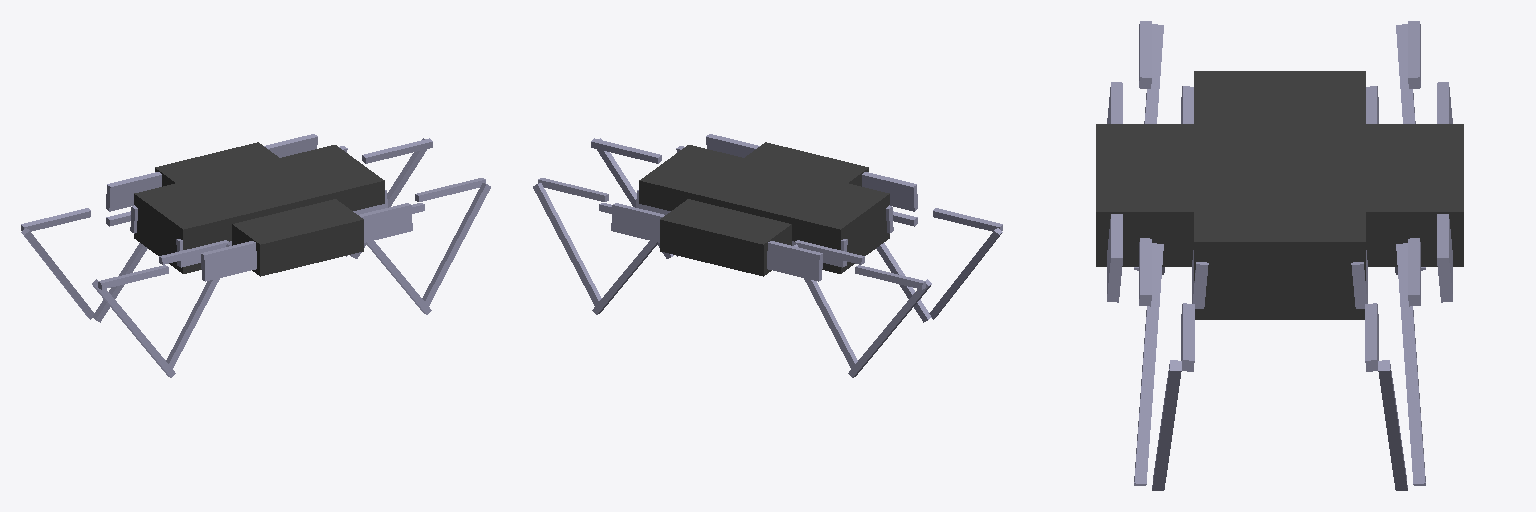
--- Facts derived from the render (not from the file) ---
3 views of the same robot in one strip: view 1: azimuth 30°, elevation 25°; view 2: azimuth 150°, elevation 25°; view 3: azimuth 270°, elevation 25° (orthographic).
Model quadruped with 27 links and 26 joints (26 fixed), rooted at base_chassis_link, posed all joints at 0.
Visible links, largest first — view 1: base_chassis_link, chassis_right, chassis_left, lower_leg_front_rightL_link, lower_leg_back_rightR_link, lower_leg_back_rightL_link, lower_leg_back_leftR_link, lower_leg_front_rightR_link, upper_leg_front_leftL_link, upper_leg_back_rightR_link, upper_leg_back_leftR_link, lower_leg_front_leftL_link (+3 smaller); view 2: base_chassis_link, chassis_left, chassis_right, lower_leg_front_leftL_link, lower_leg_back_leftR_link, lower_leg_back_leftL_link, lower_leg_back_rightR_link, lower_leg_front_leftR_link, upper_leg_front_rightL_link, upper_leg_back_rightR_link, upper_leg_back_leftR_link, lower_leg_front_rightL_link (+3 smaller); view 3: base_chassis_link, lower_leg_front_rightR_link, lower_leg_front_leftR_link, chassis_right, chassis_left, lower_leg_front_rightL_link, lower_leg_front_leftL_link, lower_leg_back_rightR_link, lower_leg_back_leftR_link, upper_leg_front_rightL_link, upper_leg_front_leftL_link, upper_leg_back_rightR_link (+3 smaller).
Link boxes in pixels (x1,y1,x2,y2): base_chassis_link: (134,142,384,276); chassis_right: (176,190,412,281); chassis_left: (106,134,317,233); lower_leg_front_rightL_link: (422,182,490,305); lower_leg_back_rightR_link: (92,279,175,377); lower_leg_back_rightL_link: (166,244,229,368); lower_leg_back_leftR_link: (21,228,94,319); lower_leg_front_rightR_link: (366,241,431,314); upper_leg_front_leftL_link: (362,138,432,163); upper_leg_back_rightR_link: (98,265,168,289); upper_leg_back_leftR_link: (21,208,90,231); lower_leg_front_leftL_link: (350,138,426,258); base_chassis_link: (639,142,889,276); chassis_left: (611,190,847,281); chassis_right: (706,134,917,233); lower_leg_front_leftL_link: (533,182,601,305); lower_leg_back_leftR_link: (848,279,931,377); lower_leg_back_leftL_link: (794,244,857,368); lower_leg_back_rightR_link: (929,228,1002,319); lower_leg_front_leftR_link: (592,241,657,314); upper_leg_front_rightL_link: (591,138,661,163); upper_leg_back_rightR_link: (933,208,1002,231); upper_leg_back_leftR_link: (855,265,925,289); lower_leg_front_rightL_link: (597,138,673,258); base_chassis_link: (1096,71,1463,319); lower_leg_front_rightR_link: (1134,243,1163,485); lower_leg_front_leftR_link: (1396,243,1425,485); chassis_right: (1107,82,1208,308); chassis_left: (1351,82,1452,308); lower_leg_front_rightL_link: (1152,360,1181,490); lower_leg_front_leftL_link: (1378,360,1407,490); lower_leg_back_rightR_link: (1134,24,1163,270); lower_leg_back_leftR_link: (1396,24,1425,270); upper_leg_front_rightL_link: (1181,303,1194,371); upper_leg_front_leftL_link: (1365,303,1378,371); upper_leg_back_rightR_link: (1139,21,1151,88).
Bounding box of the posed robot: 0.6585 × 0.3 × 0.2026 m (x, y, z).
0 mesh visuals loaded from 1 distinct referenced files (none loaded); not drawn: 8 (reference not matched to a file when rendering).

URDF robot description (quadruped):
<?xml version="1.0" ?>
<!-- ======================================================================= -->
<!--LICENSE:                                                                 -->
<!--Copyright (c) 2017, Erwin Coumans                                        -->
<!--Google Inc.                                                              -->
<!--All rights reserved.                                                     -->
<!--                                                                         -->
<!--Redistribution and use in source and binary forms, with or without       -->
<!--modification, are permitted provided that the following conditions are   -->
<!--met:                                                                     -->
<!--                                                                         -->
<!--1. Redistributions or derived work must retain this copyright notice,    -->
<!--   this list of conditions and the following disclaimer.                 -->
<!--                                                                         -->
<!--2. Redistributions in binary form must reproduce the above copyright     -->
<!--   notice, this list of conditions and the following disclaimer in the   -->
<!--   documentation and/or other materials provided with the distribution.  -->
<!--                                                                         -->
<!--THIS SOFTWARE IS PROVIDED BY THE COPYRIGHT HOLDERS AND CONTRIBUTORS "AS  -->
<!--IS" AND ANY EXPRESS OR IMPLIED WARRANTIES, INCLUDING, BUT NOT LIMITED TO,-->
<!--THE IMPLIED WARRANTIES OF MERCHANTABILITY AND FITNESS FOR A PARTICULAR   -->
<!--PURPOSE ARE DISCLAIMED. IN NO EVENT SHALL THE COPYRIGHT HOLDER OR        -->
<!--CONTRIBUTORS BE LIABLE FOR ANY DIRECT, INDIRECT, INCIDENTAL, SPECIAL,    -->
<!--EXEMPLARY, OR CONSEQUENTIAL DAMAGES (INCLUDING, BUT NOT LIMITED TO,      -->
<!--PROCUREMENT OF SUBSTITUTE GOODS OR SERVICES; LOSS OF USE, DATA, OR       -->
<!--PROFITS; OR BUSINESS INTERRUPTION) HOWEVER CAUSED AND ON ANY THEORY OF   -->
<!--LIABILITY, WHETHER IN CONTRACT, STRICT LIABILITY, OR TORT (INCLUDING     -->
<!--NEGLIGENCE OR OTHERWISE) ARISING IN ANY WAY OUT OF THE USE OF THIS       -->
<!--SOFTWARE, EVEN IF ADVISED OF THE POSSIBILITY OF SUCH DAMAGE.             -->

<robot name="quadruped">
  <link name="base_chassis_link">
    <visual>
      <geometry>
        <box size=".33 0.14 .07"/>
      </geometry>
      <material name="black">
        <color rgba="0.3 0.3 0.3 1"/>
      </material>
    </visual>
    <visual>
			<origin rpy="0 0 0" xyz="0 0.10 0"/>
      <geometry>
        <box size=".17 0.10 .05"/>
      </geometry>
      <material name="black">
        <color rgba="0.3 0.3 0.3 1"/>
      </material>
    </visual>
		<visual>
			<origin rpy="0 0 0" xyz="0 -0.10 0"/>
      <geometry>
        <box size=".17 0.10 .05"/>
      </geometry>
      <material name="black">
        <color rgba="0.3 0.3 0.3 1"/>
      </material>
    </visual>

    <collision>
      <geometry>
       <box size=".34 0.14 .07"/>
      </geometry>
    </collision>
    <collision>
			<origin rpy="0 0 0" xyz="0 0.10 0"/>
      <geometry>
       <box size=".17 0.10 .05"/>
      </geometry>
    </collision>
    <collision>
			<origin rpy="0 0 0" xyz="0 -0.10 0"/>
      <geometry>
       <box size=".17 0.10 .05"/>
      </geometry>
    </collision>

    <inertial>
      <mass value="3"/>
      <inertia ixx="1.0" ixy="0.0" ixz="0.0" iyy="1.0" iyz="0.0" izz="1.0"/>
    </inertial>
  </link>

  <link name="chassis_right">
    <visual>
			<origin rpy="0 0 0" xyz="0 0.035 0"/>
      <geometry>
       <box size=".34 0.01 .04"/>
      </geometry>
			<material name="grey">
        <color rgba="0.65 0.65 0.75 1"/>
      </material>    </visual>
    <visual>
			<origin rpy="0 0 0" xyz="0 -0.035 0"/>
      <geometry>
       <box size=".34 0.01 .04"/>
      </geometry>
			<material name="grey">
        <color rgba="0.65 0.65 0.75 1"/>
      </material>    </visual>
    <collision>
			<origin rpy="0 0 0" xyz="0 0.035 0"/>
      <geometry>
       <box size=".34 0.01 .04"/>
      </geometry>
    </collision>
    <collision>
			<origin rpy="0 0 0" xyz="0 -0.035 0"/>
      <geometry>
       <box size=".34 0.01 .04"/>
      </geometry>
    </collision>
    <inertial>
      <mass value=".1"/>
      <inertia ixx="1.0" ixy="0.0" ixz="0.0" iyy="1.0" iyz="0.0" izz="1.0"/>
    </inertial>
  </link>

  <joint name="chassis_right_center" type="fixed">
    <axis xyz="0 0 1"/>
    <parent link="base_chassis_link"/>
    <child link="chassis_right"/>
    <origin rpy="-0.0872665 0 0" xyz="0.0 -0.10 0.0"/>
    <limit effort="100" velocity="100"/>
    <joint_properties damping="0.0" friction="0.0"/>
  </joint>

  <link name="chassis_left">
    <visual>
			<origin rpy="0 0 0" xyz="0 0.035 0"/>
      <geometry>
       <box size=".34 0.01 .04"/>
      </geometry>
			<material name="grey">
        <color rgba="0.65 0.65 0.75 1"/>
      </material>    </visual>
    <visual>
			<origin rpy="0 0 0" xyz="0 -0.035 0"/>
      <geometry>
       <box size=".34 0.01 .04"/>
      </geometry>
			<material name="grey">
        <color rgba="0.65 0.65 0.75 1"/>
      </material>    </visual>
    <collision>
			<origin rpy="0 0 0" xyz="0 0.035 0"/>
      <geometry>
       <box size=".34 0.01 .04"/>
      </geometry>
    </collision>
    <collision>
			<origin rpy="0 0 0" xyz="0 -0.035 0"/>
      <geometry>
       <box size=".34 0.01 .04"/>
      </geometry>
    </collision>
    <inertial>
      <mass value=".1"/>
      <inertia ixx="1.0" ixy="0.0" ixz="0.0" iyy="1.0" iyz="0.0" izz="1.0"/>
    </inertial>
  </link>

  <joint name="chassis_left_center" type="fixed">
    <axis xyz="0 0 1"/>
    <parent link="base_chassis_link"/>
    <child link="chassis_left"/>
    <origin rpy="0.0872665 0 0" xyz="0.0 0.10 0.0"/>
    <limit effort="100" velocity="100"/>
    <joint_properties damping="0.0" friction="0.0"/>
  </joint>

  
  
  <link name="motor_front_rightR_link">
    <visual>
      <geometry>
        <mesh filename="tmotor3.obj" scale="1 1 1"/>
      </geometry>
      <material name="white">
        <color rgba="1 1 1 1"/>
      </material>
    </visual>
    <collision>
      <geometry>
        <cylinder length="0.026" radius="0.0434"/>
      </geometry>
    </collision>
    <inertial>
      <mass value="0.25"/>
      <inertia ixx="1.0" ixy="0.0" ixz="0.0" iyy="1.0" iyz="0.0" izz="1.0"/>
    </inertial>
  </link>
  <joint name="motor_front_rightR_joint" type="fixed">
    <axis xyz="0 0 1"/>
    <parent link="chassis_right"/>
    <child link="motor_front_rightR_link"/>
    <origin rpy="1.57075 -1.570796 0" xyz="0.21 -0.025 0"/>
    <limit effort="100" velocity="100"/>
    <joint_properties damping="0.0" friction="0.0"/>
  </joint>


	<link name="motor_front_rightL_link">
    <visual>
      <geometry>
        <mesh filename="tmotor3.obj" scale="1 1 1"/>
      </geometry>
      <material name="white">
        <color rgba="1 1 1 1"/>
      </material>
    </visual>
    <collision>
      <geometry>
        <cylinder length="0.026" radius="0.0434"/>
      </geometry>
    </collision>
    <inertial>
      <mass value="0.25"/>
      <inertia ixx="1.0" ixy="0.0" ixz="0.0" iyy="1.0" iyz="0.0" izz="1.0"/>
    </inertial>
  </link>
  <joint name="motor_front_rightL_joint" type="fixed">
    <axis xyz="0 0 1"/>
    <parent link="chassis_right"/>
    <child link="motor_front_rightL_link"/>
    <origin rpy="1.57075 -1.570796 3.141592" xyz="0.21 0.04 0"/>
    <limit effort="100" velocity="100"/>
    <joint_properties damping="0.0" friction="0.0"/>
  </joint>
  
  
  <link name="motor_front_leftR_link">
    <visual>
      <geometry>
        <mesh filename="tmotor3.obj" scale="1 1 1"/>
      </geometry>
      <material name="white">
        <color rgba="1 1 1 1"/>
      </material>
    </visual>
    <collision>
      <geometry>
        <cylinder length="0.026" radius="0.0434"/>
      </geometry>
    </collision>
    <inertial>
      <mass value="0.25"/>
      <inertia ixx="1.0" ixy="0.0" ixz="0.0" iyy="1.0" iyz="0.0" izz="1.0"/>
    </inertial>
  </link>
  <joint name="motor_front_leftR_joint" type="fixed">
    <axis xyz="0 0 1"/>
    <parent link="chassis_left"/>
    <child link="motor_front_leftR_link"/>
    <origin rpy="1.57075 1.570796 3.141592" xyz="0.21 0.025 0"/>
    <limit effort="100" velocity="100"/>
    <joint_properties damping="0.0" friction="0.0"/>
  </joint>


	<link name="motor_front_leftL_link">
    <visual>
      <geometry>
        <mesh filename="tmotor3.obj" scale="1 1 1"/>
      </geometry>
      <material name="white">
        <color rgba="1 1 1 1"/>
      </material>
    </visual>
    <inertial>
      <mass value="0.25"/>
      <inertia ixx="1.0" ixy="0.0" ixz="0.0" iyy="1.0" iyz="0.0" izz="1.0"/>
    </inertial>
  </link>
  <joint name="motor_front_leftL_joint" type="fixed">
    <axis xyz="0 0 1"/>
    <parent link="chassis_left"/>
    <child link="motor_front_leftL_link"/>
    <origin rpy="1.57075 1.570796 0" xyz="0.21 -0.04 0"/>
    <limit effort="100" velocity="100"/>
    <joint_properties damping="0.0" friction="0.0"/>
  </joint>
  
  
  <link name="motor_back_rightR_link">
    <visual>
      <geometry>
        <mesh filename="tmotor3.obj" scale="1 1 1"/>
      </geometry>
      <material name="white">
        <color rgba="1 1 1 1"/>
      </material>
    </visual>
    <collision>
      <geometry>
        <cylinder length="0.026" radius="0.0434"/>
      </geometry>
    </collision>
    <inertial>
      <mass value="0.25"/>
      <inertia ixx="1.0" ixy="0.0" ixz="0.0" iyy="1.0" iyz="0.0" izz="1.0"/>
    </inertial>
  </link>
  <joint name="motor_back_rightR_joint" type="fixed">
    <axis xyz="0 0 1"/>
    <parent link="chassis_right"/>
    <child link="motor_back_rightR_link"/>
    <origin rpy="1.57075 -1.570796 0" xyz="-0.21 -0.025 0"/>
    <limit effort="100" velocity="100"/>
    <joint_properties damping="0.0" friction="0.0"/>
  </joint>


	<link name="motor_back_rightL_link">
    <visual>
      <geometry>
        <mesh filename="tmotor3.obj" scale="1 1 1"/>
      </geometry>
      <material name="white">
        <color rgba="1 1 1 1"/>
      </material>
    </visual>
    <collision>
      <geometry>
        <cylinder length="0.026" radius="0.0434"/>
      </geometry>
    </collision>
    <inertial>
      <mass value="0.25"/>
      <inertia ixx="1.0" ixy="0.0" ixz="0.0" iyy="1.0" iyz="0.0" izz="1.0"/>
    </inertial>
  </link>
  <joint name="motor_back_rightL_joint" type="fixed">
    <axis xyz="0 0 1"/>
    <parent link="chassis_right"/>
    <child link="motor_back_rightL_link"/>
    <origin rpy="1.57075 -1.570796 3.141592" xyz="-0.21 0.04 0"/>
    <limit effort="100" velocity="100"/>
    <joint_properties damping="0.0" friction="0.0"/>
  </joint>
  
  
  <link name="motor_back_leftR_link">
    <visual>
      <geometry>
        <mesh filename="tmotor3.obj" scale="1 1 1"/>
      </geometry>
      <material name="white">
        <color rgba="1 1 1 1"/>
      </material>
    </visual>
    <collision>
      <geometry>
        <cylinder length="0.026" radius="0.0434"/>
      </geometry>
    </collision>
    <inertial>
      <mass value="0.25"/>
      <inertia ixx="1.0" ixy="0.0" ixz="0.0" iyy="1.0" iyz="0.0" izz="1.0"/>
    </inertial>
  </link>
  <joint name="motor_back_leftR_joint" type="fixed">
    <axis xyz="0 0 1"/>
    <parent link="chassis_left"/>
    <child link="motor_back_leftR_link"/>
    <origin rpy="1.57075 1.570796 3.141592" xyz="-0.21 0.025 0"/>
    <limit effort="100" velocity="100"/>
    <joint_properties damping="0.0" friction="0.0"/>
  </joint>


	<link name="motor_back_leftL_link">
    <visual>
      <geometry>
        <mesh filename="tmotor3.obj" scale="1 1 1"/>
      </geometry>
      <material name="white">
        <color rgba="1 1 1 1"/>
      </material>
    </visual>
    <collision>
      <geometry>
        <cylinder length="0.026" radius="0.0434"/>
      </geometry>
    </collision>
    <inertial>
      <mass value="0.25"/>
      <inertia ixx="1.0" ixy="0.0" ixz="0.0" iyy="1.0" iyz="0.0" izz="1.0"/>
    </inertial>
  </link>
  <joint name="motor_back_leftL_joint" type="fixed">
    <axis xyz="0 0 1"/>
    <parent link="chassis_left"/>
    <child link="motor_back_leftL_link"/>
    <origin rpy="1.57075 1.570796 0" xyz="-0.21 -0.04 0"/>
    <limit effort="100" velocity="100"/>
    <joint_properties damping="0.0" friction="0.0"/>
  </joint>

	<link name="upper_leg_front_rightR_link">
    <visual>
      <geometry>
        <box size=".01 0.01 .11"/>
      </geometry>
      <material name="grey">
        <color rgba="0.65 0.65 0.75 1"/>
      </material>
    </visual>
    <collision>
      <geometry>
        <box size=".01 0.01 .11"/>
      </geometry>
    </collision>
    <inertial>
      <mass value="0.05"/>
      <inertia ixx="1.0" ixy="0.0" ixz="0.0" iyy="1.0" iyz="0.0" izz="1.0"/>
    </inertial>
  </link>
  <joint name="hip_front_rightR_link" type="fixed">
    <axis xyz="0 0 1"/>
    <parent link="motor_front_rightR_link"/>
    <child link="upper_leg_front_rightR_link"/>
    <origin rpy="-1.57075 0 0" xyz="0.0 0.06 -0.015"/>
    <limit effort="100" velocity="100"/>
    <joint_properties damping="0.0" friction="0.0"/>
  </joint>

	<link name="lower_leg_front_rightR_link">
	<contact>
<lateral_friction value="1"/>
  </contact>

    <visual>
    	<origin rpy="0.0 0 0" xyz="0 0 .1"/>
      <geometry>
        <box size=".01 0.01 .2"/>
      </geometry>
      <material name="grey">
        <color rgba="0.65 0.65 0.75 1"/>
      </material>
    </visual>
    <collision>
    	<origin rpy="0.0 0 0" xyz="0 0 .1"/>
      <geometry>
        <box size=".01 0.01 .2"/>
      </geometry>
    </collision>
    <inertial>
      <mass value="0.05"/>
      <inertia ixx="1.0" ixy="0.0" ixz="0.0" iyy="1.0" iyz="0.0" izz="1.0"/>
    </inertial>
  </link>
  <joint name="knee_front_rightR_link" type="fixed">
    <axis xyz="0 1 0"/>
    <parent link="upper_leg_front_rightR_link"/>
    <child link="lower_leg_front_rightR_link"/>
    <origin rpy="0 -2.1834 0" xyz="0.0 0.01 .055"/>
    <limit effort="100" velocity="100"/>
    <joint_properties damping="0.0" friction="0.0"/>
  </joint>

    
  <link name="upper_leg_front_rightL_link">
    <visual>
      <geometry>
        <box size=".01 0.01 .11"/>
      </geometry>
      <material name="grey">
        <color rgba="0.65 0.65 0.75 1"/>
      </material>
    </visual>
    <collision>
      <geometry>
        <box size=".01 0.01 .11"/>
      </geometry>
    </collision>
    <inertial>
      <mass value="0.05"/>
      <inertia ixx="1.0" ixy="0.0" ixz="0.0" iyy="1.0" iyz="0.0" izz="1.0"/>
    </inertial>
  </link>
  <joint name="motor_front_rightL_link" type="fixed">
    <axis xyz="0 0 1"/>
    <parent link="motor_front_rightL_link"/>
    <child link="upper_leg_front_rightL_link"/>
    <origin rpy="-1.57075 0 0" xyz="0.0 0.06 -0.015"/>
    <limit effort="100" velocity="100"/>
    <joint_properties damping="0.0" friction="0.0"/>
  </joint>

  

  
  <link name="lower_leg_front_rightL_link">
	<contact>
<lateral_friction value="1"/>
  </contact>

    <visual>
    	<origin rpy="0.0 0 0" xyz="0 0 .1"/>
      <geometry>
        <box size=".01 0.01 .198"/>
      </geometry>
      <material name="grey">
        <color rgba="0.65 0.65 0.75 1"/>
      </material>
    </visual>
    <collision>
    	<origin rpy="0.0 0 0" xyz="0 0 .1"/>
      <geometry>
        <box size=".01 0.01 .198"/>
      </geometry>
    </collision>
    <inertial>
      <mass value="0.05"/>
      <inertia ixx="1.0" ixy="0.0" ixz="0.0" iyy="1.0" iyz="0.0" izz="1.0"/>
    </inertial>
  </link>
  <joint name="knee_front_rightL_link" type="fixed">
    <axis xyz="0 1 0"/>
    <parent link="upper_leg_front_rightL_link"/>
    <child link="lower_leg_front_rightL_link"/>
    <origin rpy="0 -2.1834 0" xyz="0.0 0.01 .055"/>
    <limit effort="100" velocity="100"/>
    <joint_properties damping="0.0" friction="0.0"/>
  </joint>


	<link name="upper_leg_front_leftR_link">
    <visual>
      <geometry>
        <box size=".01 0.01 .11"/>
      </geometry>
      <material name="grey">
        <color rgba="0.65 0.65 0.75 1"/>
      </material>
    </visual>
    <collision>
      <geometry>
        <box size=".01 0.01 .11"/>
      </geometry>
    </collision>
    <inertial>
      <mass value="0.05"/>
      <inertia ixx="1.0" ixy="0.0" ixz="0.0" iyy="1.0" iyz="0.0" izz="1.0"/>
    </inertial>
  </link>
  <joint name="hip_front_leftR_link" type="fixed">
    <axis xyz="0 0 1"/>
    <parent link="motor_front_leftR_link"/>
    <child link="upper_leg_front_leftR_link"/>
    <origin rpy="-1.57075 0 0" xyz="0.0 0.06 -0.015"/>
    <limit effort="100" velocity="100"/>
    <joint_properties damping="0.0" friction="0.0"/>
  </joint>


	<link name="lower_leg_front_leftR_link">
	<contact>
<lateral_friction value="1"/>
  </contact>

    <visual>
    	<origin rpy="0.0 0.0 0" xyz="0 0 .1"/>
      <geometry>
        <box size=".01 0.01 .2"/>
      </geometry>
      <material name="grey">
        <color rgba="0.65 0.65 0.75 1"/>
      </material>
    </visual>
    <collision>
    	<origin rpy="0.0 0.0 0" xyz="0 0 .1"/>
      <geometry>
        <box size=".01 0.01 .2"/>
      </geometry>
    </collision>
    <inertial>
      <mass value="0.05"/>
      <inertia ixx="1.0" ixy="0.0" ixz="0.0" iyy="1.0" iyz="0.0" izz="1.0"/>
    </inertial>
  </link>
  <joint name="knee_front_leftR_link" type="fixed">
    <axis xyz="0 1 0"/>
    <parent link="upper_leg_front_leftR_link"/>
    <child link="lower_leg_front_leftR_link"/>
    <origin rpy="0 2.1834 0" xyz="0.0 0.01 .055"/>
    <limit effort="100" velocity="100"/>
    <joint_properties damping="0.0" friction="0.0"/>
  </joint>



   <link name="upper_leg_front_leftL_link">
    <visual>
      <geometry>
        <box size=".01 0.01 .11"/>
      </geometry>
      <material name="grey">
        <color rgba="0.65 0.65 0.75 1"/>
      </material>
    </visual>
    <collision>
      <geometry>
        <box size=".01 0.01 .11"/>
      </geometry>
    </collision>
    <inertial>
      <mass value="0.05"/>
      <inertia ixx="1.0" ixy="0.0" ixz="0.0" iyy="1.0" iyz="0.0" izz="1.0"/>
    </inertial>
  </link>
  <joint name="motor_front_leftL_link" type="fixed">
    <axis xyz="0 0 1"/>
    <parent link="motor_front_leftL_link"/>
    <child link="upper_leg_front_leftL_link"/>
    <origin rpy="-1.57075 0 0" xyz="0.0 0.06 -0.015"/>
    <limit effort="100" velocity="100"/>
    <joint_properties damping="0.0" friction="0.0"/>
  </joint>


  <link name="lower_leg_front_leftL_link">
	<contact>
<lateral_friction value="1"/>
  </contact>

    <visual>
    	<origin rpy="0.0 0.0 0" xyz="0 0 .1"/>
      <geometry>
        <box size=".01 0.01 .198"/>
      </geometry>
      <material name="grey">
        <color rgba="0.65 0.65 0.75 1"/>
      </material>
    </visual>
    <collision>
    	<origin rpy="0.0 0.0 0" xyz="0 0 .1"/>
      <geometry>
        <box size=".01 0.01 .198"/>
      </geometry>
    </collision>
    <inertial>
      <mass value="0.05"/>
      <inertia ixx="1.0" ixy="0.0" ixz="0.0" iyy="1.0" iyz="0.0" izz="1.0"/>
    </inertial>
  </link>
  <joint name="knee_front_leftL_link" type="fixed">
    <axis xyz="0 1 0"/>
    <parent link="upper_leg_front_leftL_link"/>
    <child link="lower_leg_front_leftL_link"/>
    <origin rpy="0 2.1834 0" xyz="0.0 0.01 .055"/>
    <limit effort="100" velocity="100"/>
    <joint_properties damping="0.0" friction="0.0"/>
  </joint>
  
	<link name="upper_leg_back_rightR_link">
    <visual>
      <geometry>
        <box size=".01 0.01 .11"/>
      </geometry>
      <material name="grey">
        <color rgba="0.65 0.65 0.75 1"/>
      </material>
    </visual>
    <collision>
      <geometry>
        <box size=".01 0.01 .11"/>
      </geometry>
    </collision>
    <inertial>
      <mass value="0.05"/>
      <inertia ixx="1.0" ixy="0.0" ixz="0.0" iyy="1.0" iyz="0.0" izz="1.0"/>
    </inertial>
  </link>
  <joint name="hip_rightR_link" type="fixed">
    <axis xyz="0 0 1"/>
    <parent link="motor_back_rightR_link"/>
    <child link="upper_leg_back_rightR_link"/>
    <origin rpy="-1.57075 0 0" xyz="0.0 0.06 -0.015"/>
    <limit effort="100" velocity="100"/>
    <joint_properties damping="0.0" friction="0.0"/>
  </joint>

	<link name="lower_leg_back_rightR_link">
	<contact>
<lateral_friction value="1"/>
  </contact>

    <visual>
    	<origin rpy="0.0 0 0" xyz="0 0 .1"/>
      <geometry>
        <box size=".01 0.01 .2032"/>
      </geometry>
      <material name="grey">
        <color rgba="0.65 0.65 0.75 1"/>
      </material>
    </visual>
    <collision>
    	<origin rpy="0.0 0 0" xyz="0 0 .1"/>
      <geometry>
        <box size=".01 0.01 .2032"/>
      </geometry>
    </collision>
    <inertial>
      <mass value="0.05"/>
      <inertia ixx="1.0" ixy="0.0" ixz="0.0" iyy="1.0" iyz="0.0" izz="1.0"/>
    </inertial>
  </link>
  <joint name="knee_back_rightR_link" type="fixed">
    <axis xyz="0 1 0"/>
    <parent link="upper_leg_back_rightR_link"/>
    <child link="lower_leg_back_rightR_link"/>
    <origin rpy="0 -2.1834 0" xyz="0.0 0.01 .055"/>
    <limit effort="100" velocity="100"/>
    <joint_properties damping="0.0" friction="0.0"/>
  </joint>

    
  <link name="upper_leg_back_rightL_link">
    <visual>
      <geometry>
        <box size=".01 0.01 .11"/>
      </geometry>
      <material name="grey">
        <color rgba="0.65 0.65 0.75 1"/>
      </material>
    </visual>
    <collision>
      <geometry>
        <box size=".01 0.01 .11"/>
      </geometry>
    </collision>
    <inertial>
      <mass value="0.05"/>
      <inertia ixx="1.0" ixy="0.0" ixz="0.0" iyy="1.0" iyz="0.0" izz="1.0"/>
    </inertial>
  </link>
  <joint name="motor_back_rightL_link" type="fixed">
    <axis xyz="0 0 1"/>
    <parent link="motor_back_rightL_link"/>
    <child link="upper_leg_back_rightL_link"/>
    <origin rpy="-1.57075 0 0" xyz="0.0 0.06 -0.015"/>
    <limit effort="100" velocity="100"/>
    <joint_properties damping="0.0" friction="0.0"/>
  </joint>

  

  
  <link name="lower_leg_back_rightL_link">
	<contact>
<lateral_friction value="1"/>
  </contact>

    <visual>
    	<origin rpy="0.0 0 0" xyz="0 0 .1"/>
      <geometry>
        <box size=".01 0.01 .2"/>
      </geometry>
      <material name="grey">
        <color rgba="0.65 0.65 0.75 1"/>
      </material>
    </visual>
    <collision>
    	<origin rpy="0.0 0 0" xyz="0 0 .1"/>
      <geometry>
        <box size=".01 0.01 .2"/>
      </geometry>
    </collision>
    <inertial>
      <mass value="0.05"/>
      <inertia ixx="1.0" ixy="0.0" ixz="0.0" iyy="1.0" iyz="0.0" izz="1.0"/>
    </inertial>
  </link>
  <joint name="knee_back_rightL_link" type="fixed">
    <axis xyz="0 1 0"/>
    <parent link="upper_leg_back_rightL_link"/>
    <child link="lower_leg_back_rightL_link"/>
    <origin rpy="0 -2.1834 0" xyz="0.0 0.01 .055"/>
    <limit effort="100" velocity="100"/>
    <joint_properties damping="0.0" friction="0.0"/>
  </joint>



	<link name="upper_leg_back_leftR_link">
    <visual>
      <geometry>
        <box size=".01 0.01 .11"/>
      </geometry>
      <material name="grey">
        <color rgba="0.65 0.65 0.75 1"/>
      </material>
    </visual>
    <collision>
      <geometry>
        <box size=".01 0.01 .11"/>
      </geometry>
    </collision>
    <inertial>
      <mass value="0.05"/>
      <inertia ixx="1.0" ixy="0.0" ixz="0.0" iyy="1.0" iyz="0.0" izz="1.0"/>
    </inertial>
  </link>
  <joint name="hip_leftR_link" type="fixed">
    <axis xyz="0 0 1"/>
    <parent link="motor_back_leftR_link"/>
    <child link="upper_leg_back_leftR_link"/>
    <origin rpy="-1.57075 0 0" xyz="0.0 0.06 -0.015"/>
    <limit effort="100" velocity="100"/>
    <joint_properties damping="0.0" friction="0.0"/>
  </joint>

<link name="lower_leg_back_leftR_link">
	<contact>
<lateral_friction value="1"/>
  </contact>

    <visual>
    	<origin rpy="0.0 0 0" xyz="0 0 .1"/>
      <geometry>
        <box size=".01 0.01 .2032"/>
      </geometry>
      <material name="grey">
        <color rgba="0.65 0.65 0.75 1"/>
      </material>
    </visual>
    <collision>
    	<origin rpy="0.0 0 0" xyz="0 0 .1"/>
      <geometry>
        <box size=".01 0.01 .2032"/>
      </geometry>
    </collision>
    <inertial>
      <mass value="0.05"/>
      <inertia ixx="1.0" ixy="0.0" ixz="0.0" iyy="1.0" iyz="0.0" izz="1.0"/>
    </inertial>
  </link>
  <joint name="knee_back_leftR_link" type="fixed">
    <axis xyz="0 1 0"/>
    <parent link="upper_leg_back_leftR_link"/>
    <child link="lower_leg_back_leftR_link"/>
    <origin rpy="0 2.1834 0" xyz="0.0 0.01 .055"/>
    <limit effort="100" velocity="100"/>
    <joint_properties damping="0.0" friction="0.0"/>
  </joint>
  
   <link name="upper_leg_back_leftL_link">
    <visual>
      <geometry>
        <box size=".01 0.01 .11"/>
      </geometry>
      <material name="grey">
        <color rgba="0.65 0.65 0.75 1"/>
      </material>
    </visual>
    <collision>
      <geometry>
        <box size=".01 0.01 .11"/>
      </geometry>
    </collision>
    <inertial>
      <mass value="0.05"/>
      <inertia ixx="1.0" ixy="0.0" ixz="0.0" iyy="1.0" iyz="0.0" izz="1.0"/>
    </inertial>
  </link>
  <joint name="motor_back_leftL_link" type="fixed">
    <axis xyz="0 0 1"/>
    <parent link="motor_back_leftL_link"/>
    <child link="upper_leg_back_leftL_link"/>
    <origin rpy="-1.57075 0 0" xyz="0.0 0.06 -0.015"/>
    <limit effort="100" velocity="100"/>
    <joint_properties damping="0.0" friction="0.0"/>
  </joint>

 
  <link name="lower_leg_back_leftL_link">
	<contact>
<lateral_friction value="1"/>
  </contact>

    <visual>
    	<origin rpy="0.0 0 0" xyz="0 0 .1"/>
      <geometry>
        <box size=".01 0.01 .2"/>
      </geometry>
      <material name="grey">
        <color rgba="0.65 0.65 0.75 1"/>
      </material>
    </visual>
    <collision>
    	<origin rpy="0.0 0 0" xyz="0 0 .1"/>
      <geometry>
        <box size=".01 0.01 .2"/>
      </geometry>
    </collision>
    <inertial>
      <mass value="0.05"/>
      <inertia ixx="1.0" ixy="0.0" ixz="0.0" iyy="1.0" iyz="0.0" izz="1.0"/>
    </inertial>
  </link>
  <joint name="knee_back_leftL_link" type="fixed">
    <axis xyz="0 1 0"/>
    <parent link="upper_leg_back_leftL_link"/>
    <child link="lower_leg_back_leftL_link"/>
    <origin rpy="0 2.1834 0" xyz="0.0 0.01 .055"/>
    <limit effort="100" velocity="100"/>
    <joint_properties damping="0.0" friction="0.0"/>
  </joint>
 
</robot>
